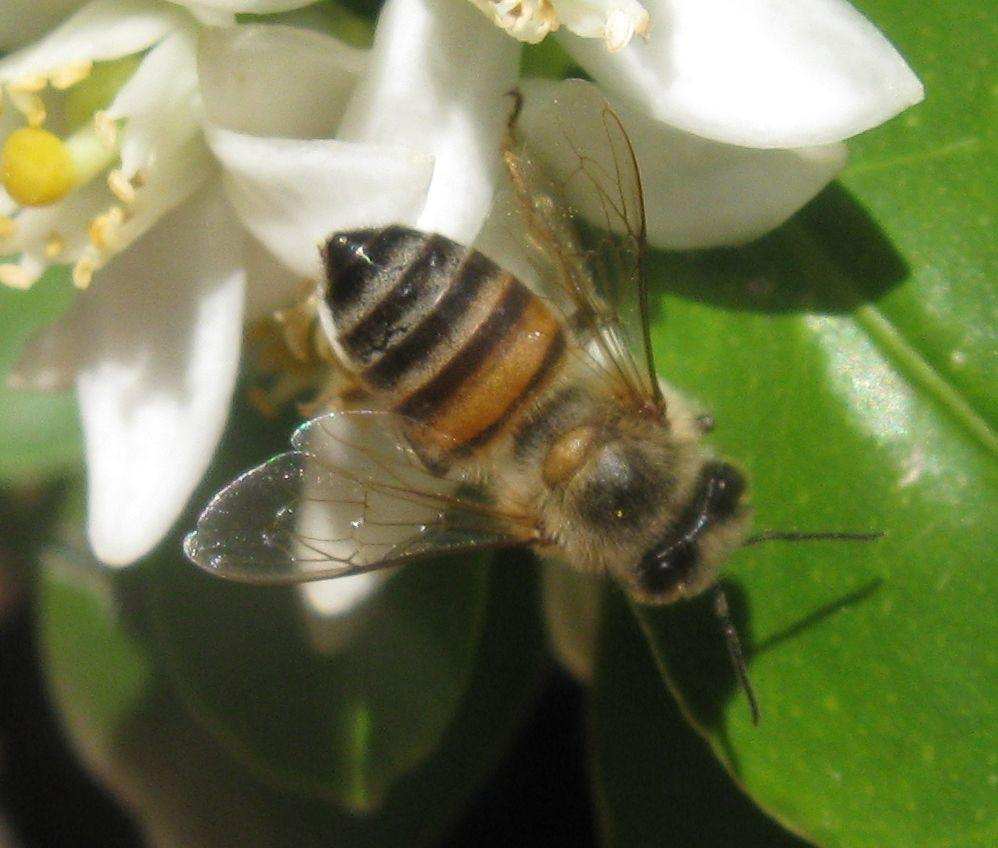Apis-mellifera-scutellata: (186, 67, 853, 776)
